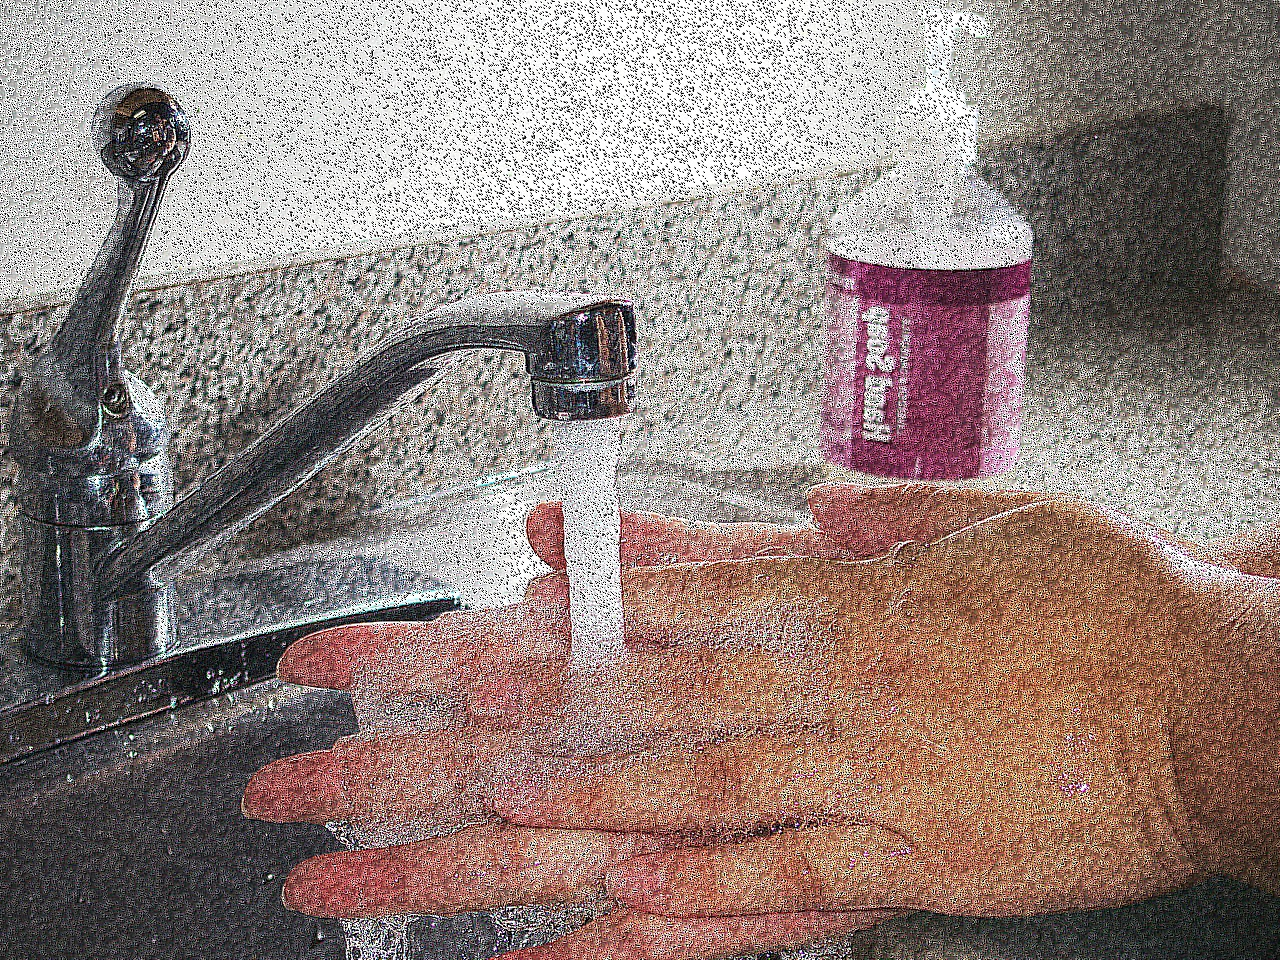washing hand: (181, 259, 1134, 952)
